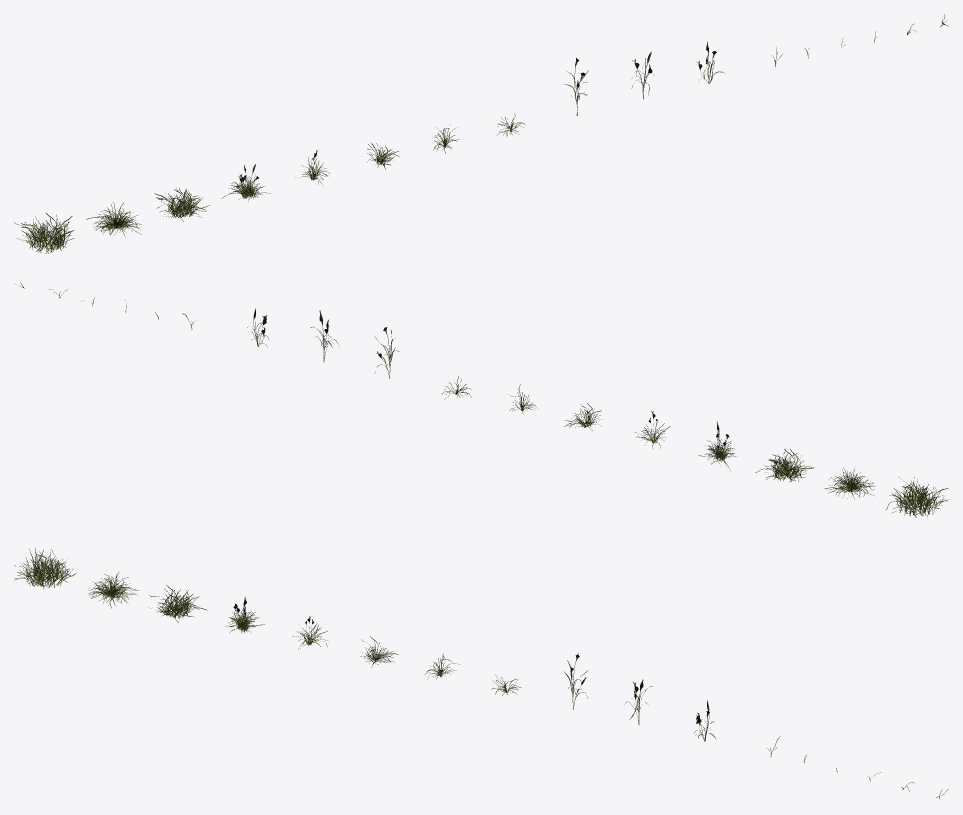
File: grass_medium_01.glb
3 renders of one model, top to bottom at view 1: azimuth 30°, elevation 25°; view 2: azimuth 150°, elevation 25°; view 3: azimuth 330°, elevation 25°, orthographic.
Visible parts, largest first — view 1: grass_medium_01_large_a_LOD0, grass_medium_01_large_c_LOD0, grass_medium_01_large_b_LOD0, grass_medium_01_mid_a_LOD0; view 2: grass_medium_01_large_a_LOD0, grass_medium_01_large_c_LOD0, grass_medium_01_large_b_LOD0; view 3: grass_medium_01_large_a_LOD0, grass_medium_01_large_c_LOD0, grass_medium_01_large_b_LOD0.
Boxes of the visible parts, left/top/right/bottom form: grass_medium_01_large_a_LOD0: left=14, top=213, right=74, bottom=253; grass_medium_01_large_c_LOD0: left=154, top=188, right=210, bottom=221; grass_medium_01_large_b_LOD0: left=86, top=202, right=141, bottom=237; grass_medium_01_mid_a_LOD0: left=221, top=164, right=270, bottom=200; grass_medium_01_large_a_LOD0: left=886, top=476, right=948, bottom=517; grass_medium_01_large_c_LOD0: left=755, top=449, right=814, bottom=481; grass_medium_01_large_b_LOD0: left=824, top=468, right=875, bottom=499; grass_medium_01_large_a_LOD0: left=14, top=548, right=76, bottom=588; grass_medium_01_large_c_LOD0: left=149, top=585, right=207, bottom=622; grass_medium_01_large_b_LOD0: left=88, top=572, right=138, bottom=608.
Bounding box in the file's own units: 5.61 × 0.3437 × 0.3512.
1 material, 1 textured.
